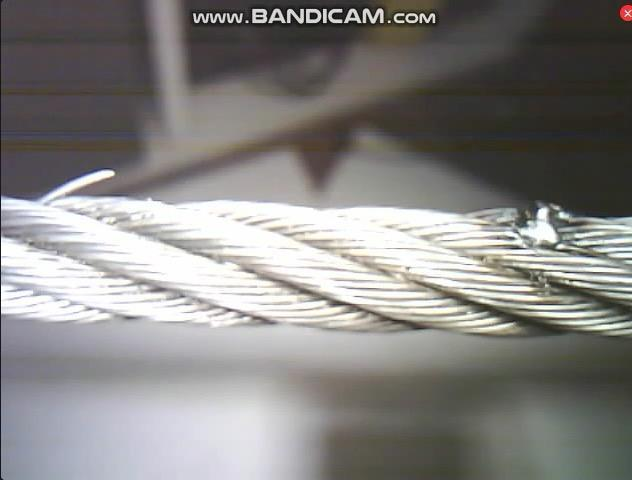break: (35, 154, 122, 216)
thunderbolt: (484, 180, 580, 266)
